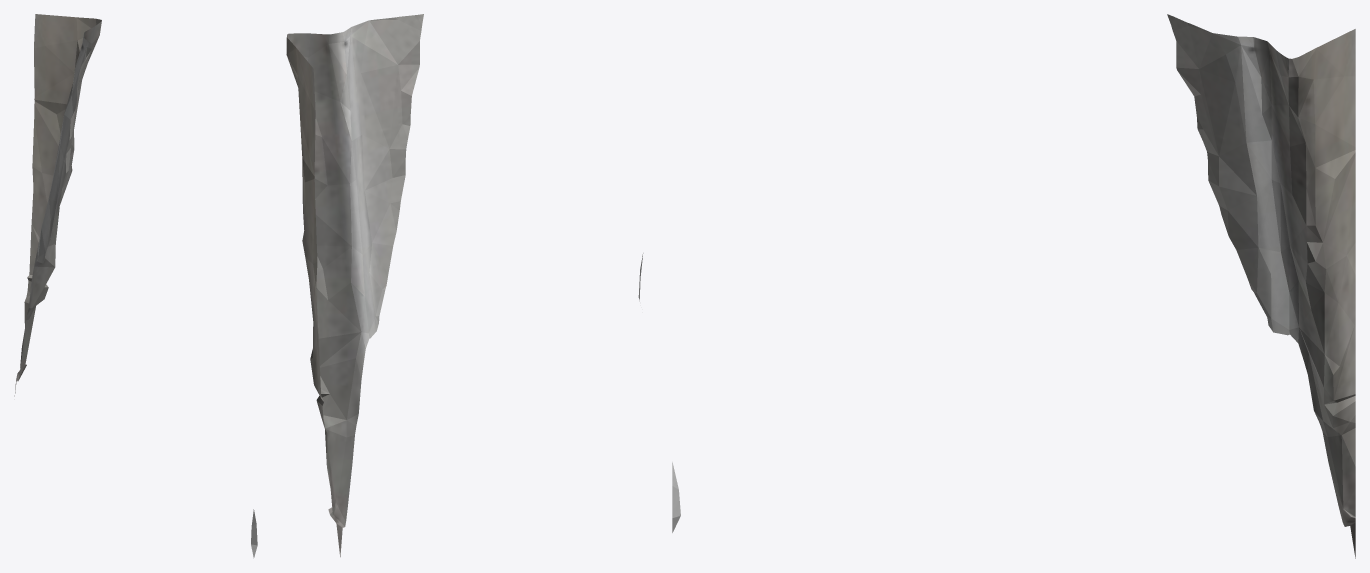
3 renders of one model, left to right at view 1: azimuth 30°, elevation 25°; view 2: azimuth 150°, elevation 25°; view 3: azimuth 270°, elevation 25°, orthographic. The views are drawn at different scales.
Size of the model in its own units: 0.1301 by 0.7372 by 0.8374.
1 material, 1 textured.
